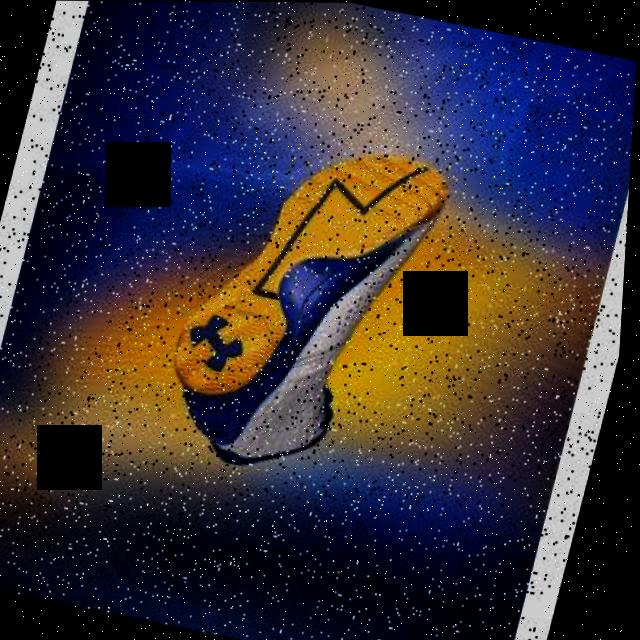shoe: (154, 120, 461, 494)
